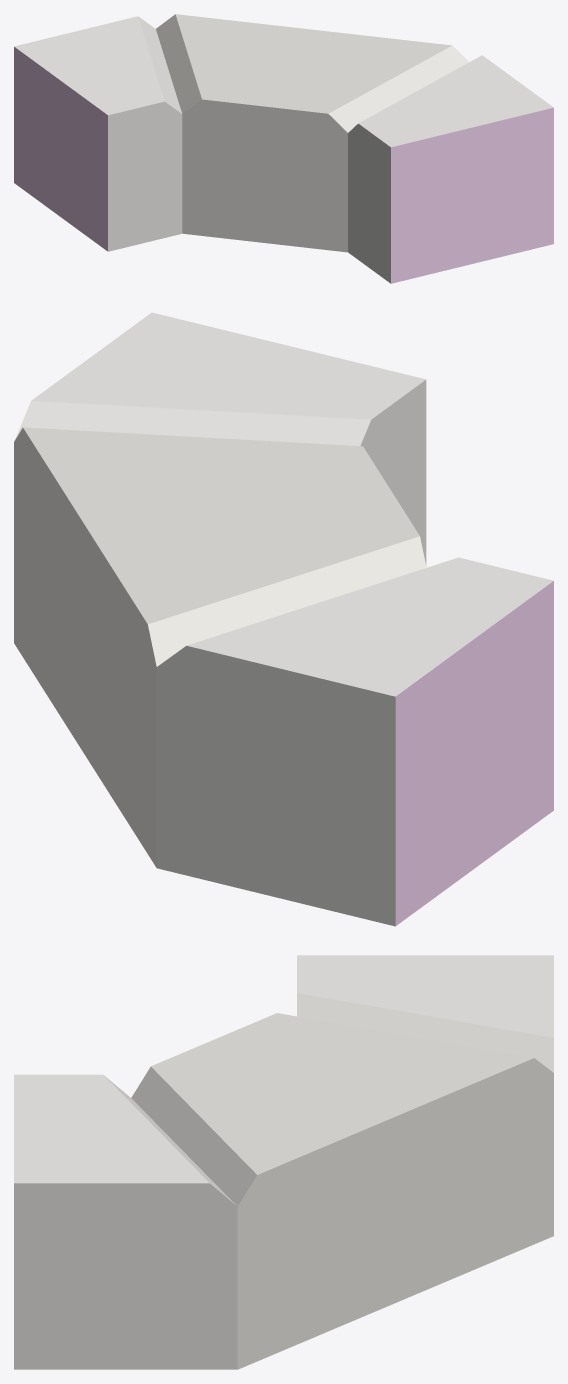
Rendered from Path_Edging_Stones_Curve_1x1.glb.
3 renders of one model, top to bottom at view 1: azimuth 30°, elevation 25°; view 2: azimuth 150°, elevation 25°; view 3: azimuth 270°, elevation 25°, orthographic. The views are drawn at different scales.
Visible parts, largest first — view 1: Path_Edging_Stones_Curve_1x1; view 2: Path_Edging_Stones_Curve_1x1; view 3: Path_Edging_Stones_Curve_1x1.
Part boxes in pixels (x1,y1,x2,y2): Path_Edging_Stones_Curve_1x1: (14,14,553,283); Path_Edging_Stones_Curve_1x1: (14,312,553,926); Path_Edging_Stones_Curve_1x1: (14,955,553,1369).
Size of the model in its own units: 65.62 by 25 by 65.63.
